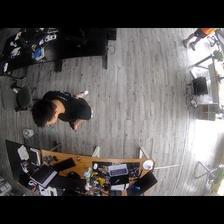normal: (32, 90, 92, 129)
